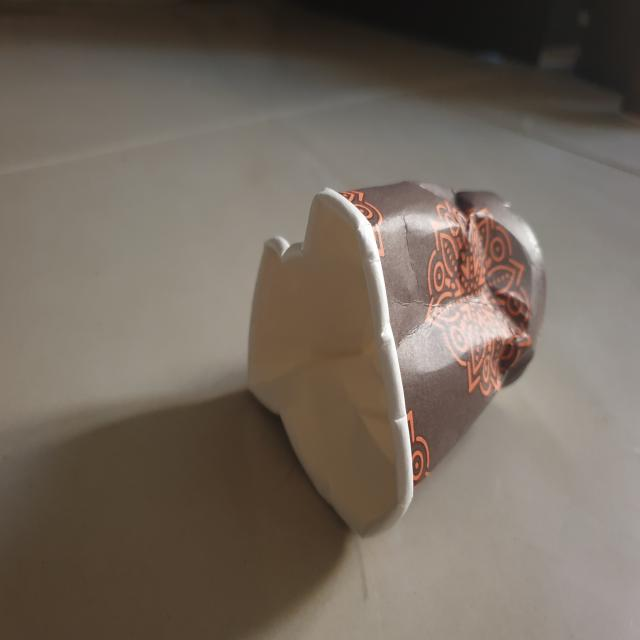cups: (232, 177, 552, 546)
